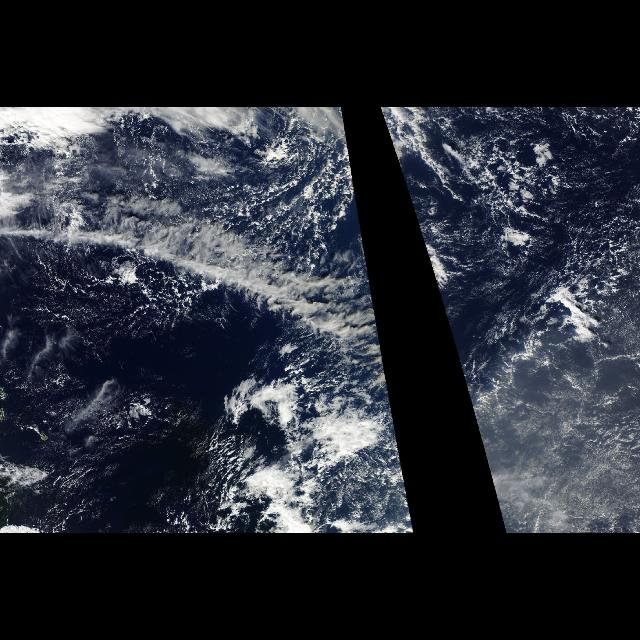Fish: (0, 170, 382, 368)
Gravel: (441, 109, 637, 293)
Sugar: (477, 361, 637, 531)
